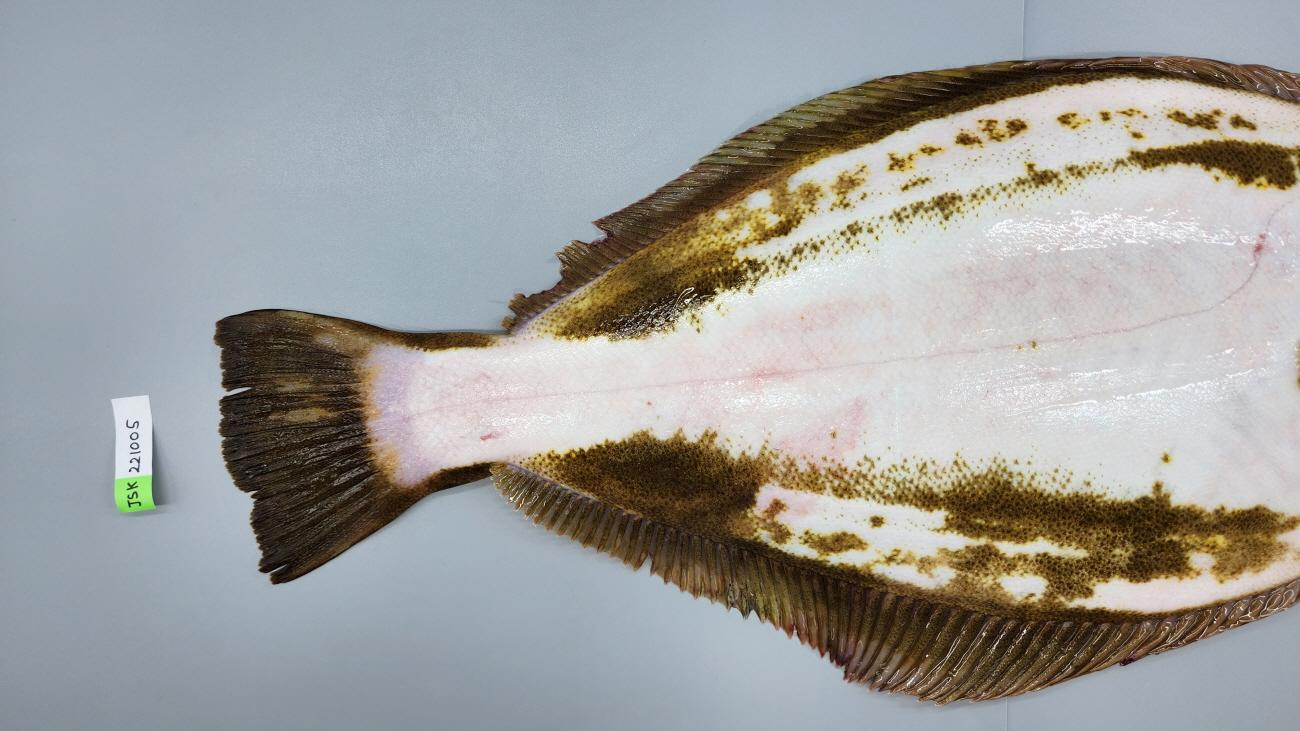POOUN: (213, 56, 1300, 707)
